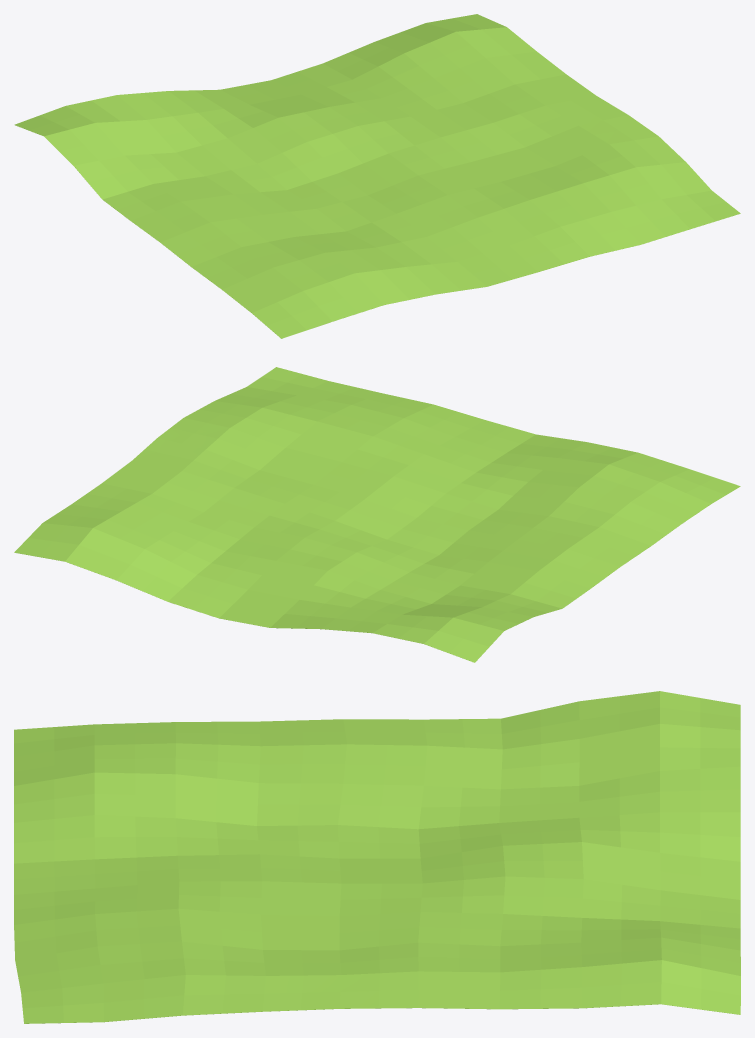
File: Ground1.fbx
3 views of the same model, one above another, from view 1: azimuth 30°, elevation 25°; view 2: azimuth 150°, elevation 25°; view 3: azimuth 270°, elevation 25° (orthographic). The views are drawn at different scales.
Visible parts, largest first — view 1: Mesh_2a; view 2: Mesh_2a; view 3: Mesh_2a.
Part boxes in pixels (x1,y1,x2,y2): Mesh_2a: (14, 14, 740, 338); Mesh_2a: (14, 367, 740, 662); Mesh_2a: (14, 691, 740, 1023).
Bounding box in the file's own units: 10105 × 658 × 9983.
